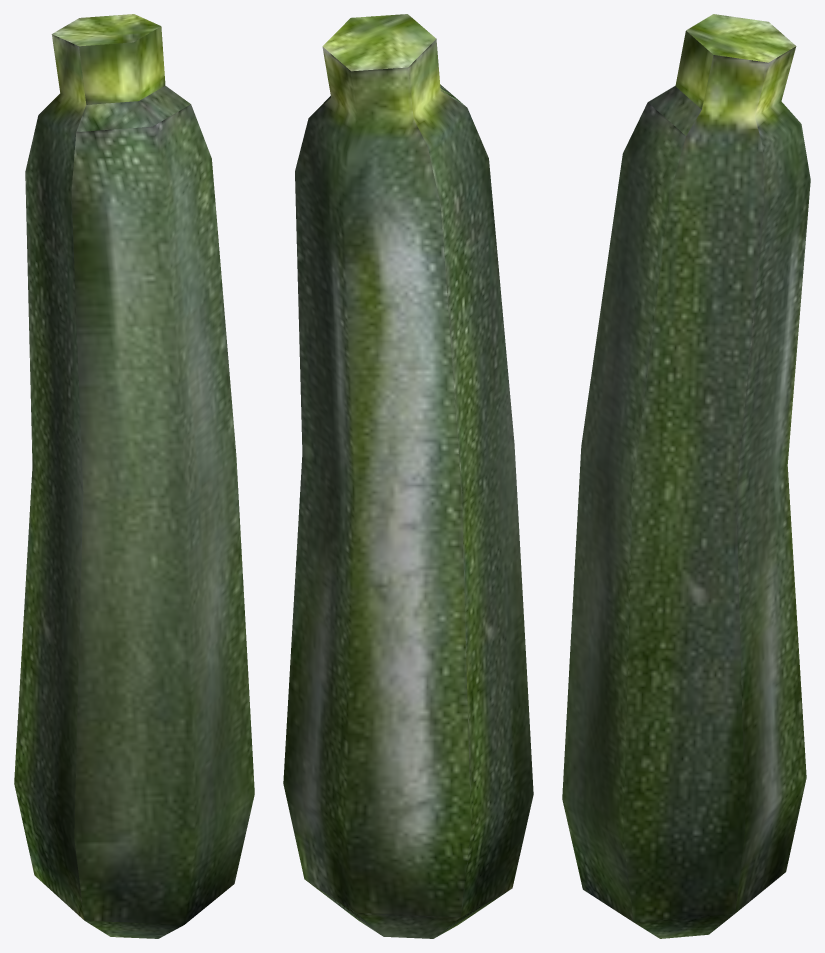
File: Zucchini.glb
3 views of the same model, side by side, from view 1: azimuth 30°, elevation 25°; view 2: azimuth 150°, elevation 25°; view 3: azimuth 270°, elevation 25° (orthographic). The views are drawn at different scales.
Visible parts, largest first — view 1: Zucchini; view 2: Zucchini; view 3: Zucchini.
Part boxes in pixels (x1,y1,x2,y2): Zucchini: (14,14,254,938); Zucchini: (283,14,533,938); Zucchini: (562,14,810,938).
Bounding box in the file's own units: 0.0739 × 0.3437 × 0.0867.
Materials: 1 (1 with a texture image).
